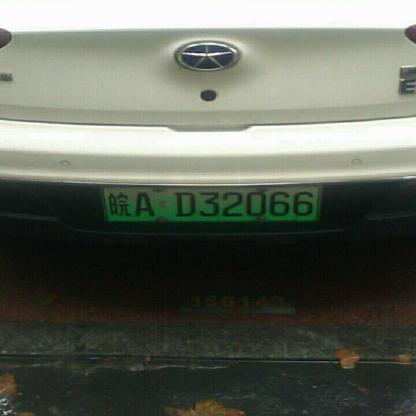lp: (103, 186, 319, 220)
